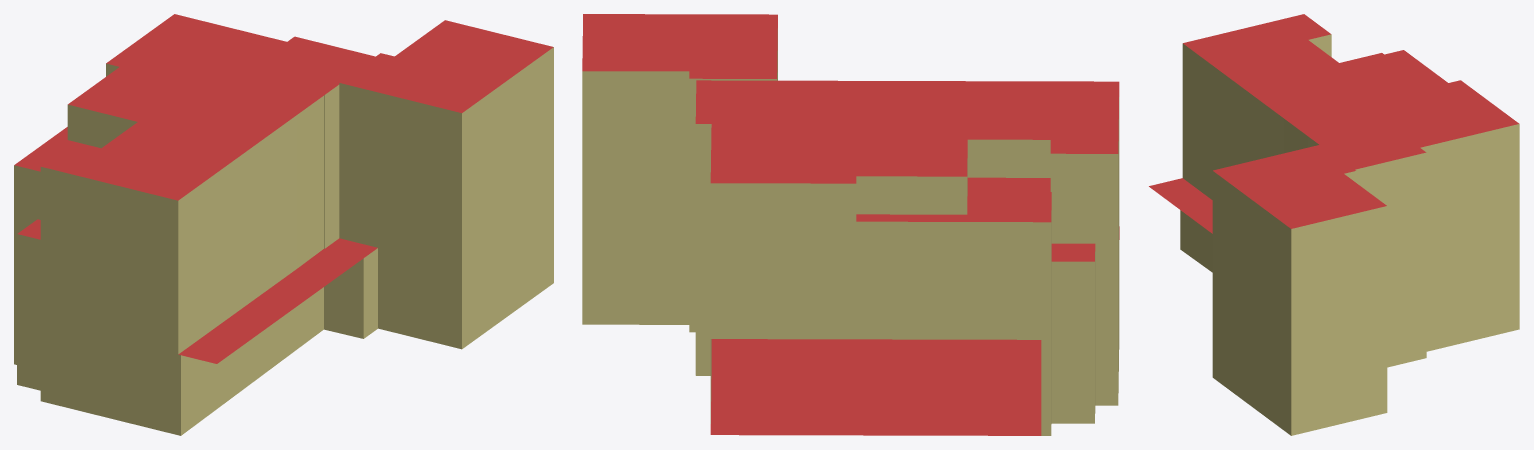
3 views of the same model, side by side, from view 1: azimuth 30°, elevation 25°; view 2: azimuth 150°, elevation 25°; view 3: azimuth 270°, elevation 25° (orthographic). The views are drawn at different scales.
Size of the model in its own units: 55.4 by 40.09 by 24.67.
